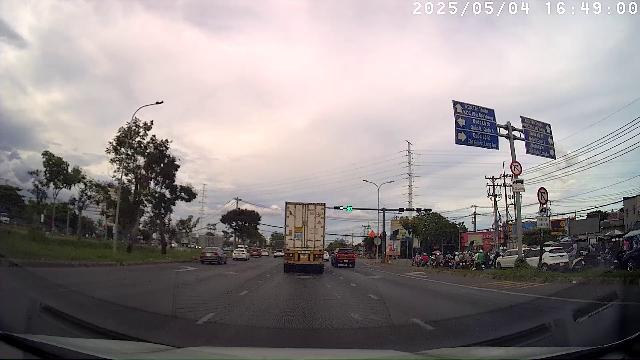123b-cam-re-phai: (538, 187, 548, 205), (510, 161, 522, 175)
